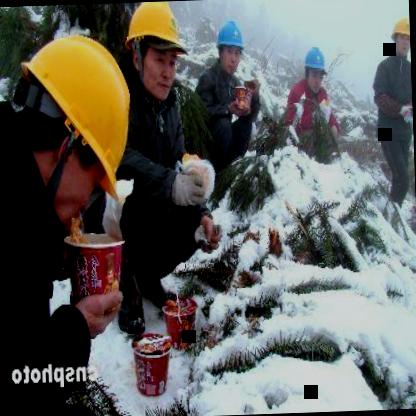helmet: (7, 34, 136, 223), (122, 0, 189, 98), (214, 16, 248, 76), (300, 40, 330, 96), (388, 10, 410, 58)
